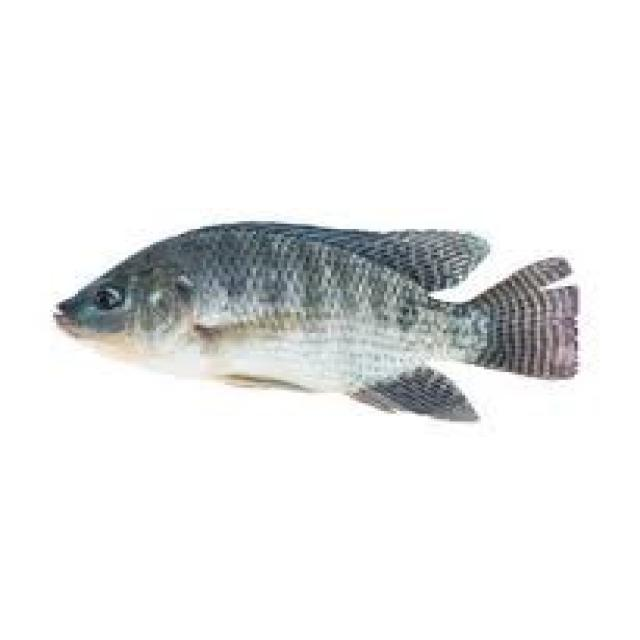ikan: (42, 187, 612, 449)
